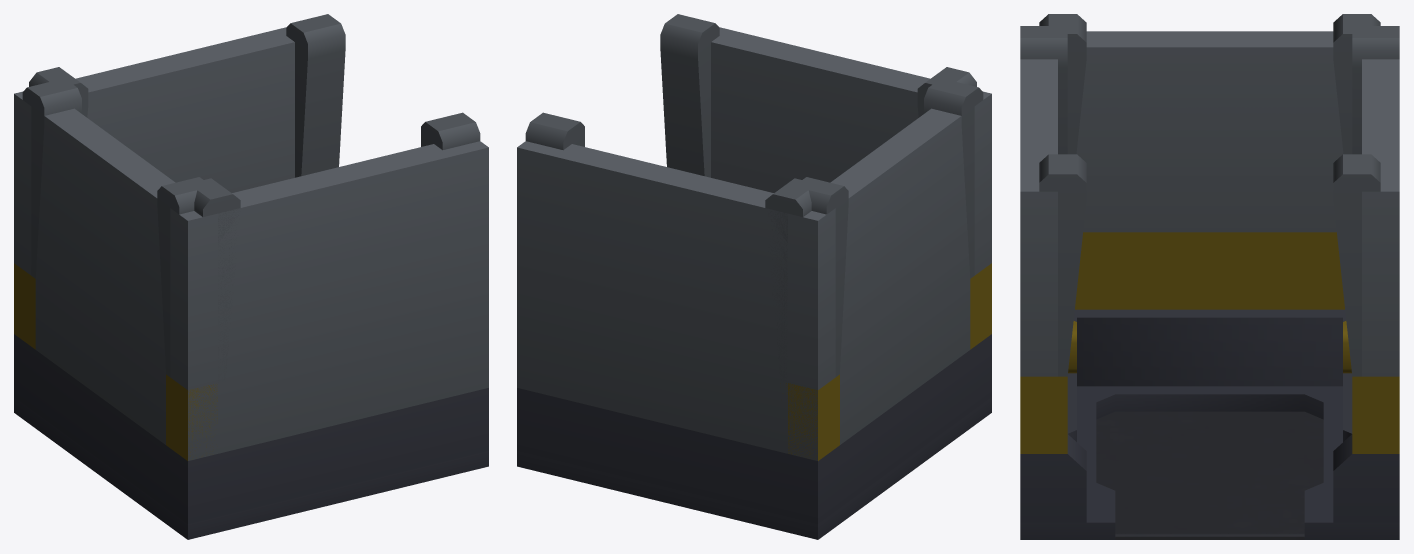
File: k_corridor_end.glb
The picture shows the model from 3 angles, left to right: view 1: azimuth 30°, elevation 25°; view 2: azimuth 150°, elevation 25°; view 3: azimuth 270°, elevation 25°; orthographic projection. The views are drawn at different scales.
Visible parts, largest first — view 1: corridor-end; view 2: corridor-end; view 3: corridor-end.
Part boxes in pixels (bbox=[...]): corridor-end: bbox=[14, 14, 488, 539]; corridor-end: bbox=[517, 14, 991, 539]; corridor-end: bbox=[1020, 14, 1399, 539].
Size of the model in its own units: 4 by 4.25 by 4.
1 material, 1 textured.
